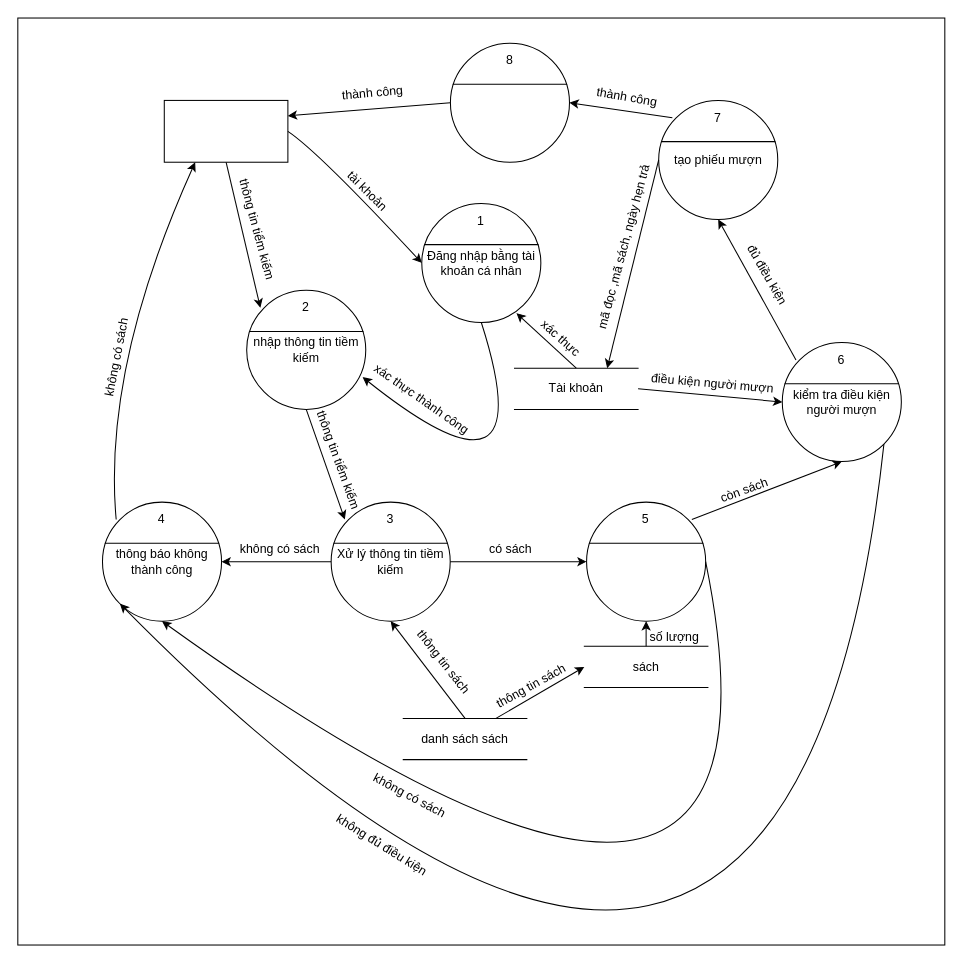
Image size: 963x963. Some labels were removed from this diagram. Here are the shapes that lost their labels. From the top down, the box of each, then its label:
(449, 42, 569, 162): thông báo thành công
(163, 99, 288, 162): Bạn đọc
(586, 501, 706, 621): kiểm tra tình trạng sách
